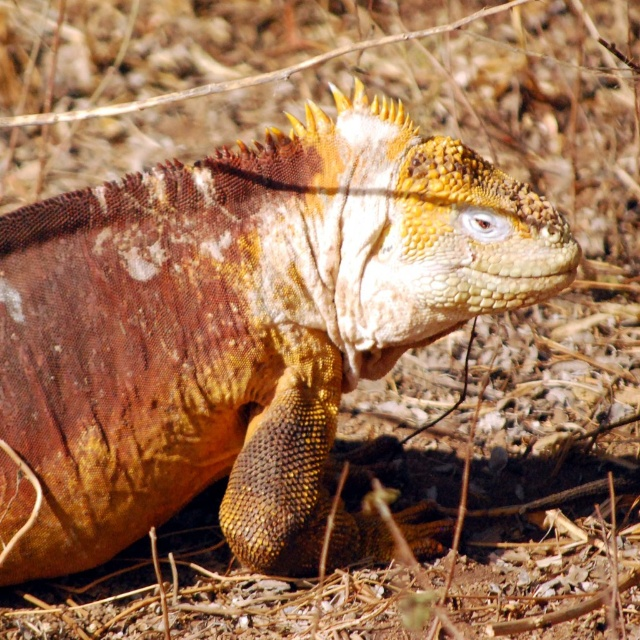Lizard: (0, 82, 582, 573)
